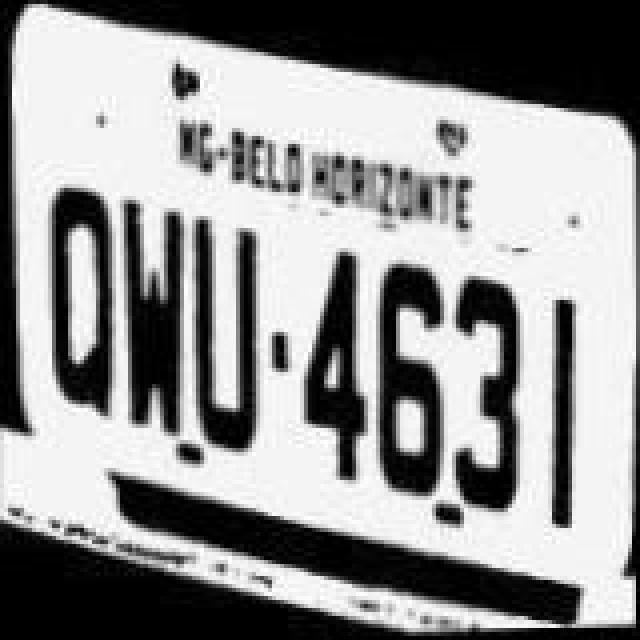1: (540, 290, 596, 554)
3: (448, 266, 528, 542)
4: (298, 240, 370, 496)
6: (370, 254, 454, 526)
Q: (34, 178, 122, 454)
U: (188, 206, 272, 482)
W: (110, 192, 190, 464)
